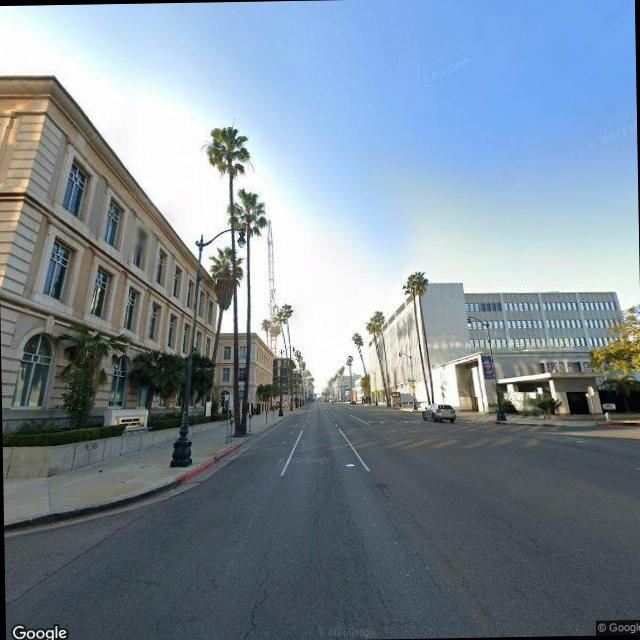crack: (379, 498, 443, 593), (210, 564, 276, 640)
